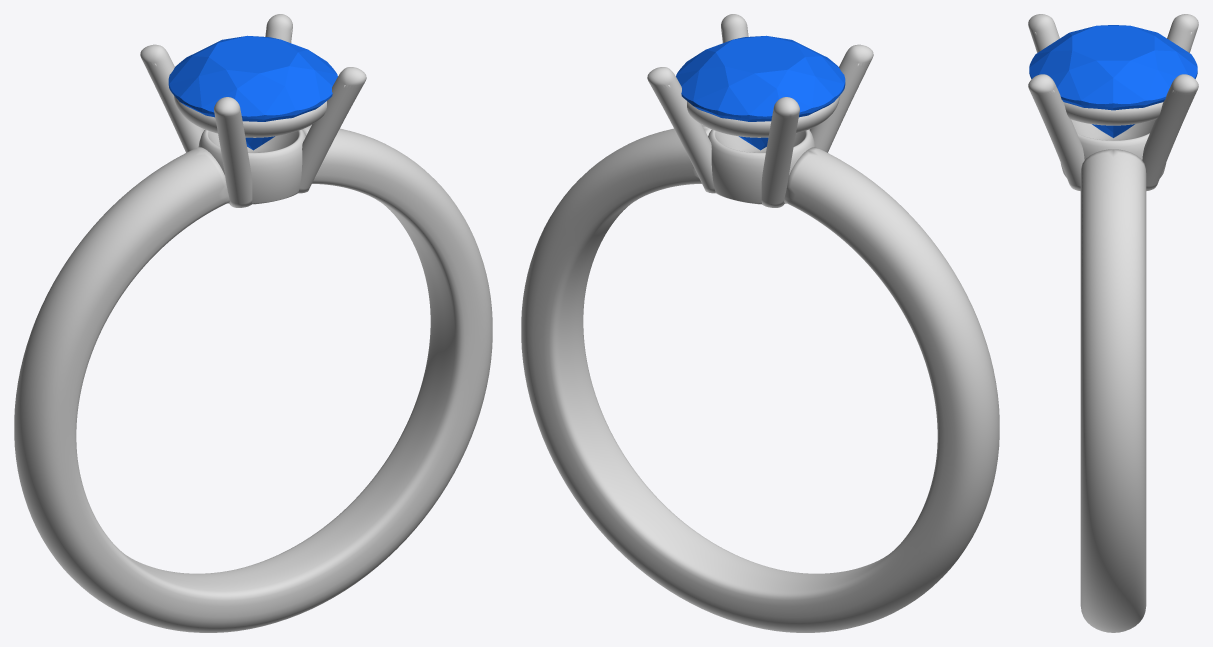
Rendered from bluesapphire-round-platinum-4prong-straightband-nosidestones.glb.
The picture shows the model from 3 angles, left to right: view 1: azimuth 30°, elevation 25°; view 2: azimuth 150°, elevation 25°; view 3: azimuth 270°, elevation 25°; orthographic projection.
Parts seen in each view (by area): view 1: metal, stone; view 2: metal, stone; view 3: metal, stone.
Part boxes in pixels (left/top/right/bottom): metal: left=14, top=14, right=492, bottom=632; stone: left=168, top=35, right=337, bottom=150; metal: left=521, top=14, right=999, bottom=632; stone: left=676, top=35, right=845, bottom=150; metal: left=1028, top=14, right=1198, bottom=632; stone: left=1029, top=25, right=1197, bottom=137.
Size of the model in its own units: 20.5 by 23.81 by 6.52.
